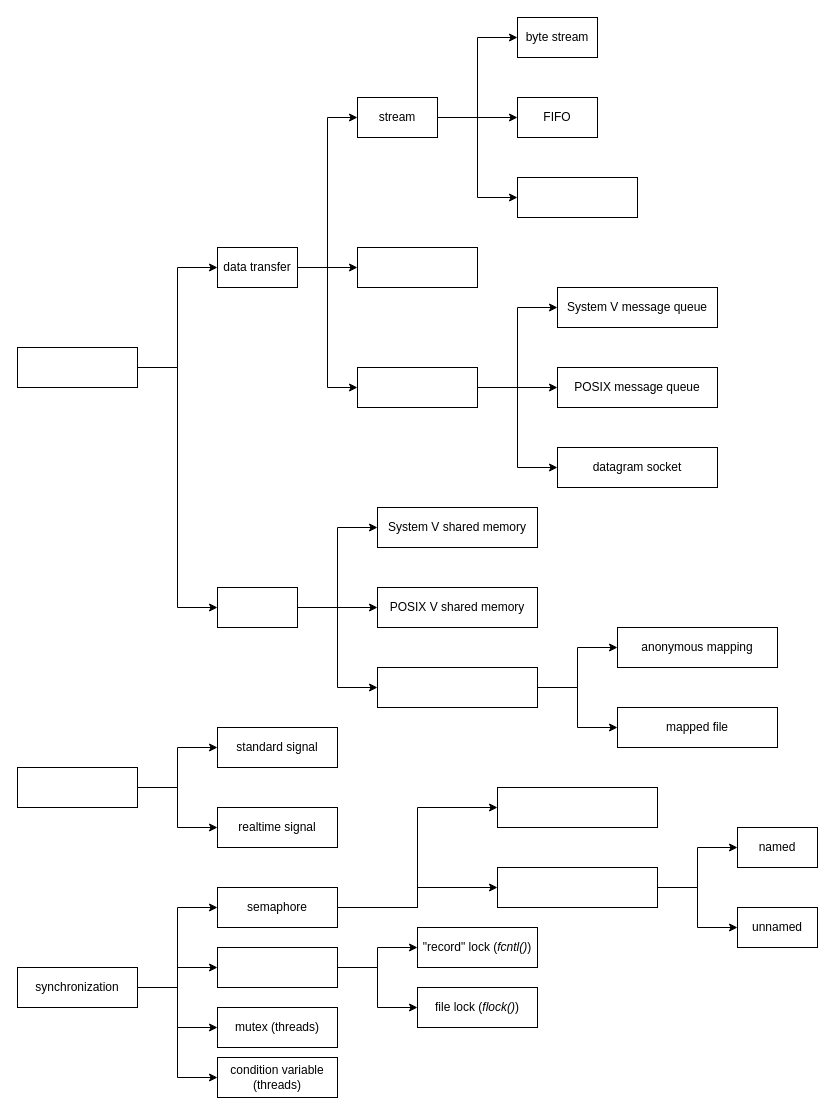
Image size: 835x1115. Some labels were removed from this diagram. The shapes that lost their labels are listed below. From the top down, each one's box as (x1, y1, x2, y2) in pixels, then its label:
(516, 176, 638, 218): stream socket
(356, 246, 478, 288): pseudoterminal
(16, 346, 138, 388): communication
(356, 366, 478, 408): message
(216, 586, 298, 628): shared memory
(376, 666, 538, 708): memory mapping
(16, 766, 138, 808): signal
(496, 786, 658, 828): System V semaphore
(496, 866, 658, 908): POSIX semaphore
(216, 946, 338, 988): file lock
